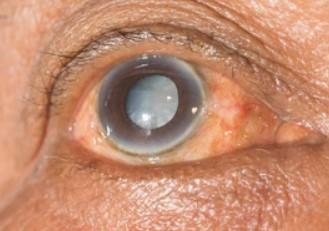eye: (96, 53, 206, 155)
